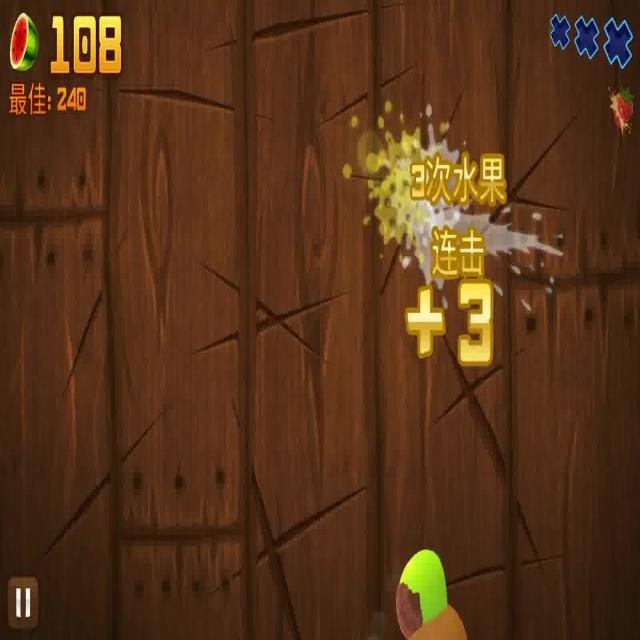fruit: (393, 545, 445, 628), (411, 602, 469, 638)
